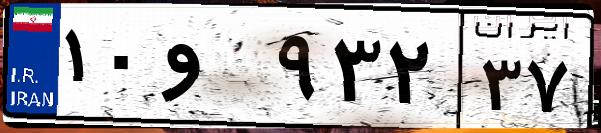0: (110, 28, 158, 98)
1: (57, 26, 110, 100)
2: (385, 28, 445, 110)
3: (330, 28, 385, 110), (475, 38, 525, 113)
7: (525, 38, 570, 115)
9: (270, 28, 330, 110)
و: (158, 20, 270, 120)
